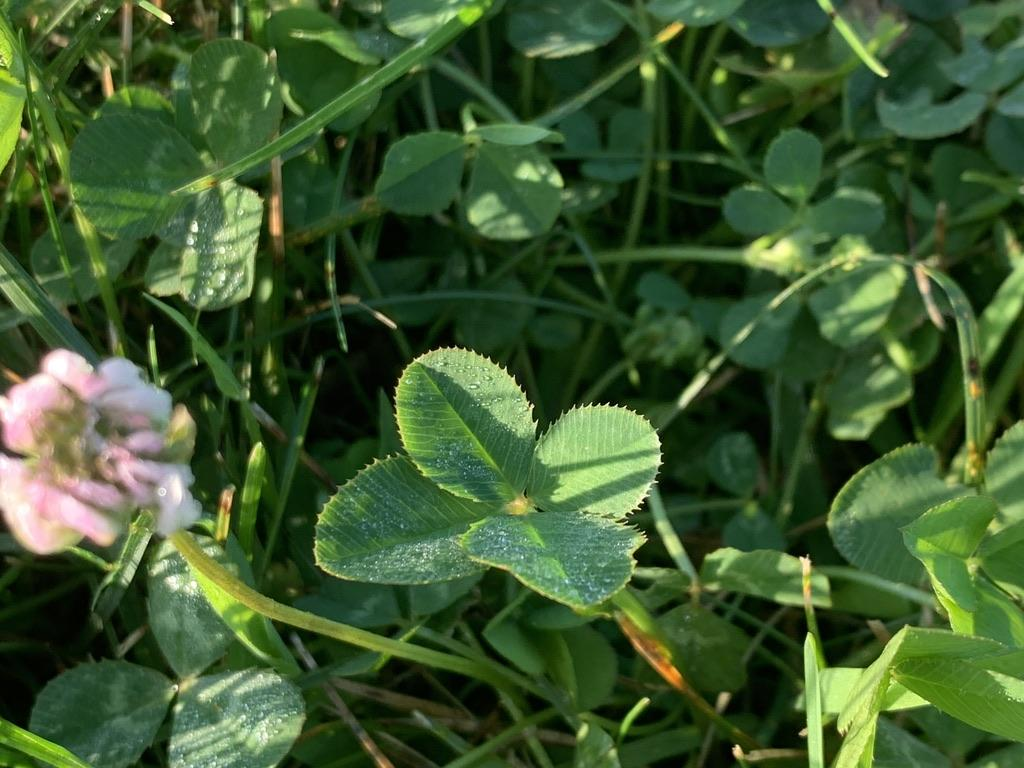4-Leaf-Clovers: (475, 270, 803, 532)
